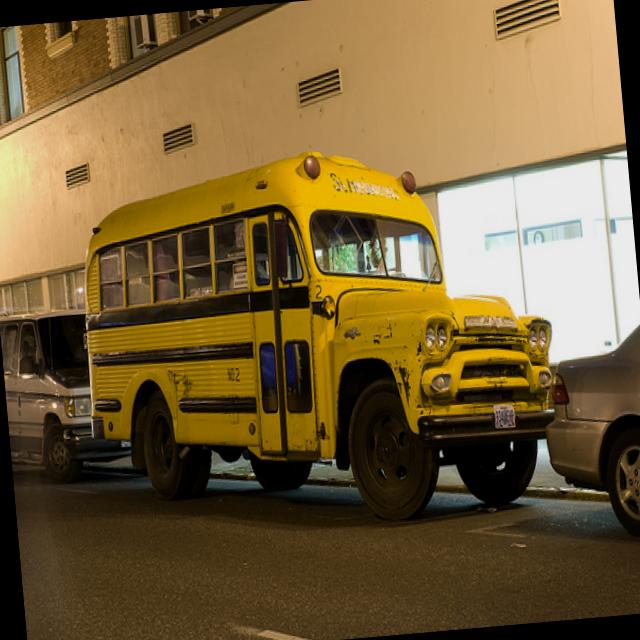Vehicle: (71, 131, 566, 540), (0, 301, 133, 490), (536, 309, 640, 549)
